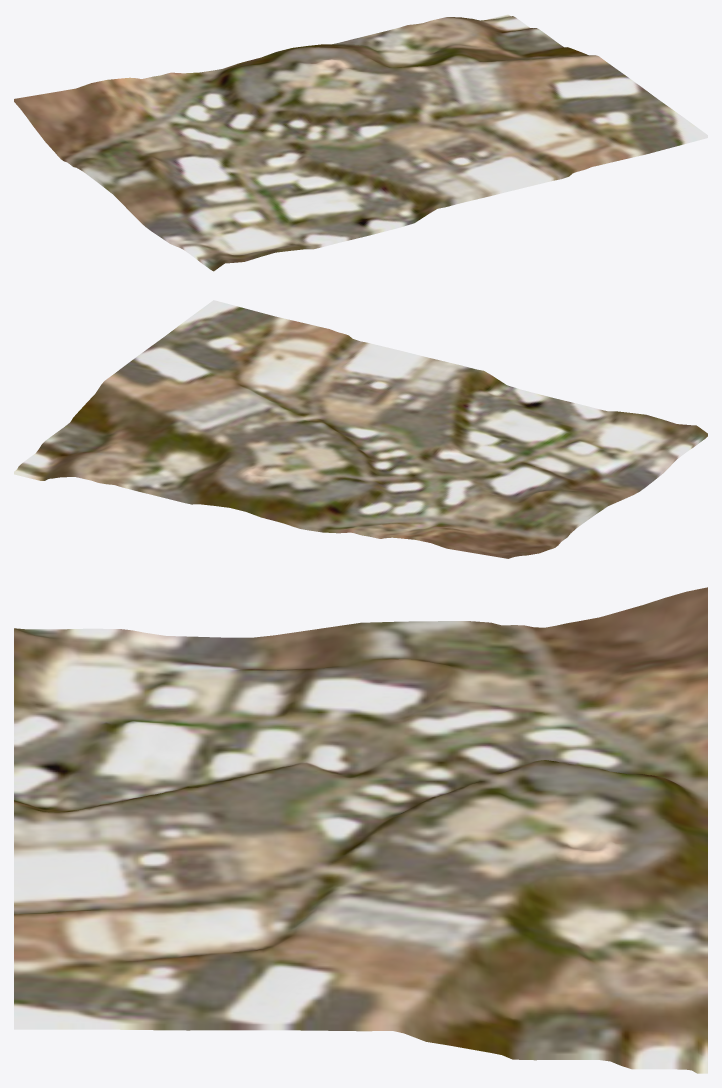
The model's file is terrain_r3_c6_lod1.glb.
The picture shows the model from 3 angles, top to bottom: view 1: azimuth 30°, elevation 25°; view 2: azimuth 150°, elevation 25°; view 3: azimuth 270°, elevation 25°; orthographic projection. The views are drawn at different scales.
Parts seen in each view (by area): view 1: terrain_r3_c6_lod1; view 2: terrain_r3_c6_lod1; view 3: terrain_r3_c6_lod1.
Part boxes in pixels (x1,y1,x2,y2): terrain_r3_c6_lod1: (14, 14, 707, 271); terrain_r3_c6_lod1: (14, 300, 707, 558); terrain_r3_c6_lod1: (14, 587, 707, 1073).
Size of the model in its own units: 1125 by 84.6 by 787.
Materials: 1 (1 with a texture image).
